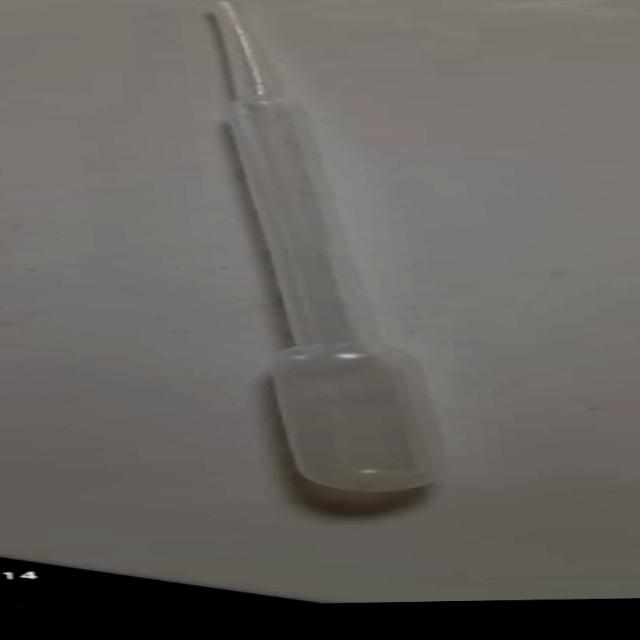Droppers: (148, 2, 494, 500)
